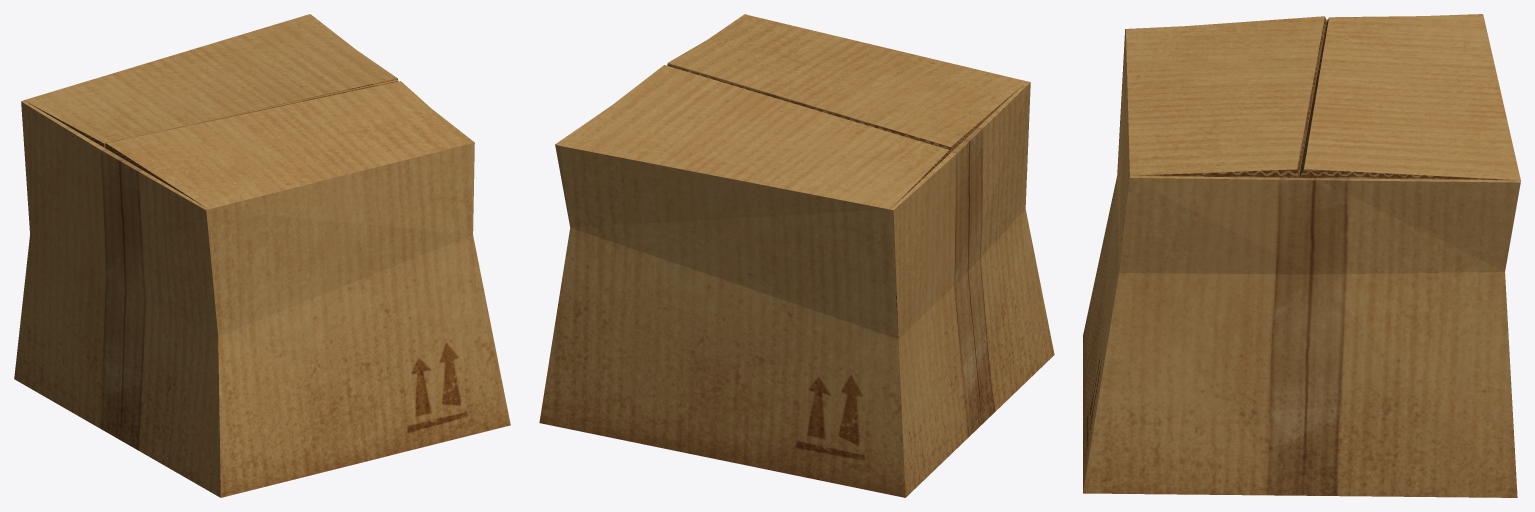
3 views of the same model, side by side, from view 1: azimuth 30°, elevation 25°; view 2: azimuth 150°, elevation 25°; view 3: azimuth 270°, elevation 25° (orthographic). The views are drawn at different scales.
Visible parts, largest first — view 1: box; view 2: box; view 3: box.
Part boxes in pixels (x1,y1,x2,y2): box: (14,14,510,497); box: (539,14,1054,497); box: (1083,14,1520,497).
Size of the model in its own units: 209 by 170 by 211.
Materials: 1 (1 with a texture image).
